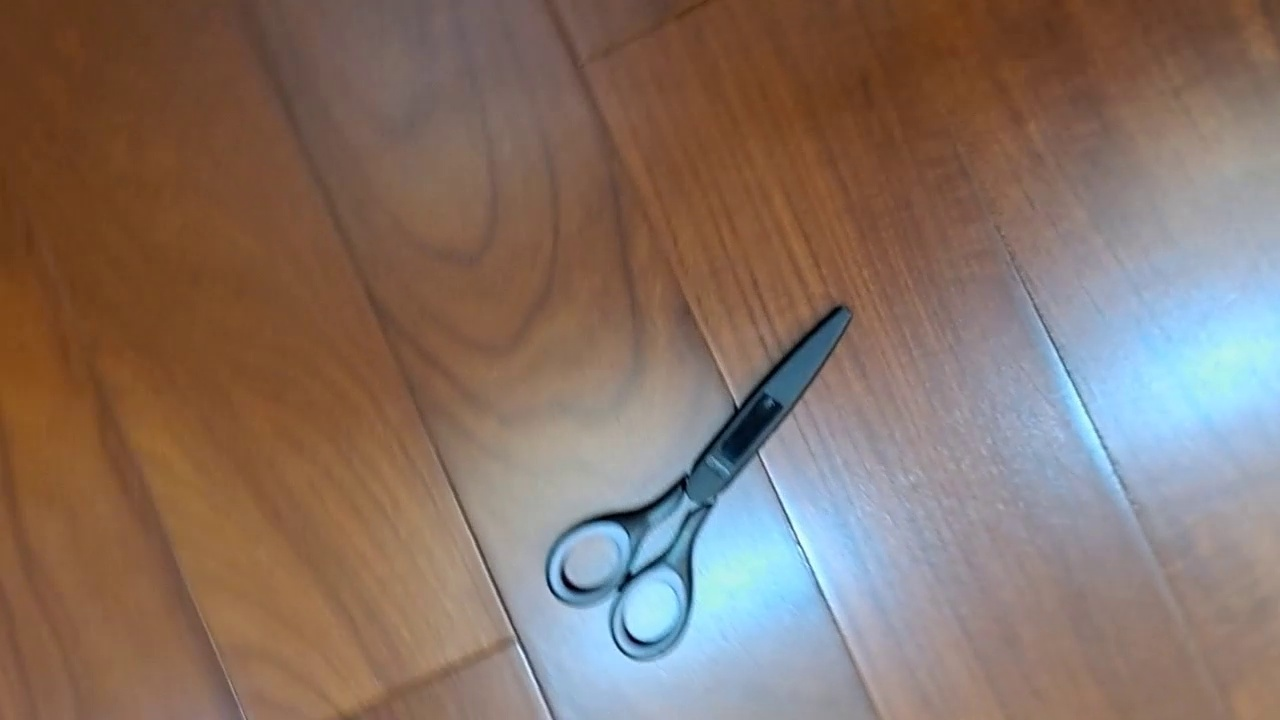scissors: (543, 301, 855, 662)
